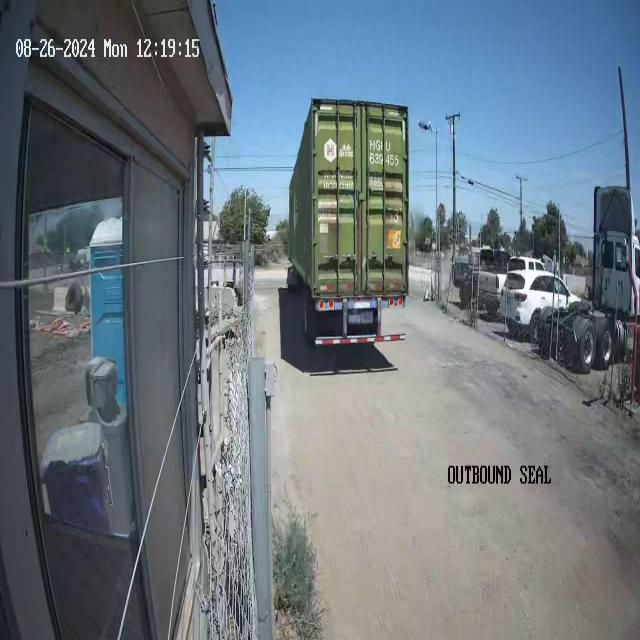CONTAINER: (287, 96, 409, 302)
